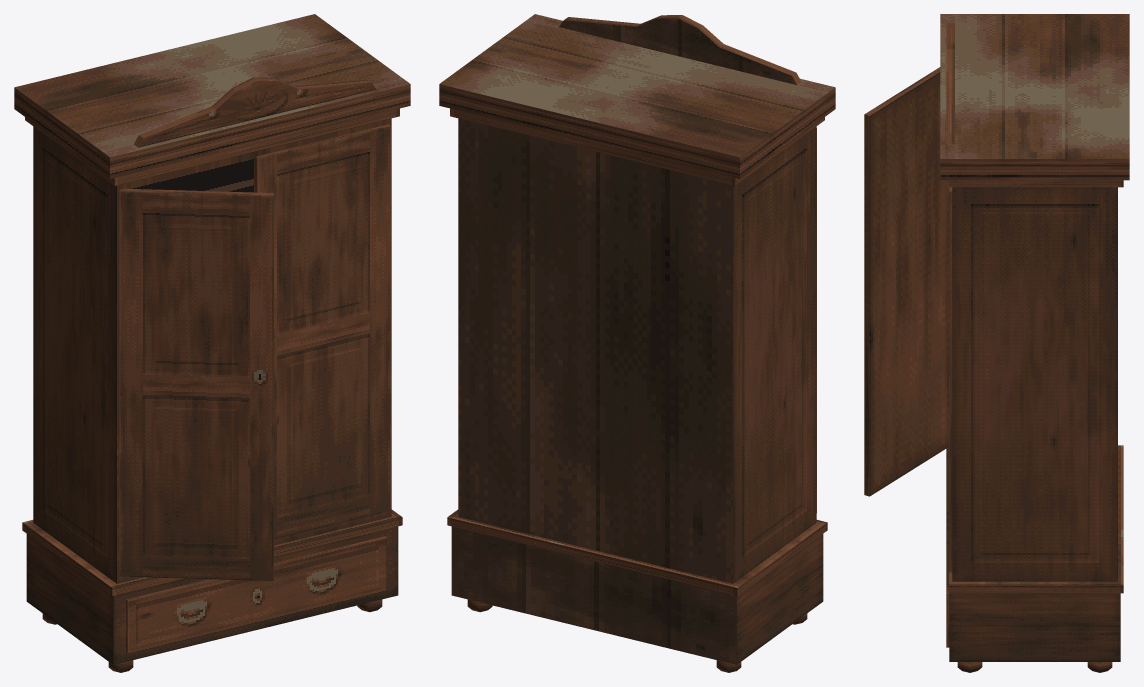
Rendered from wardrobe.glb.
3 views of the same model, side by side, from view 1: azimuth 30°, elevation 25°; view 2: azimuth 150°, elevation 25°; view 3: azimuth 270°, elevation 25° (orthographic).
Parts seen in each view (by area): view 1: wardrobe; view 2: wardrobe; view 3: wardrobe.
Part boxes in pixels (left/top/right/bottom): wardrobe: left=14, top=14, right=410, bottom=672; wardrobe: left=439, top=14, right=835, bottom=672; wardrobe: left=864, top=14, right=1129, bottom=672.
Size of the model in its own units: 1.16 by 2.09 by 0.8971.
Materials: 1 (1 with a texture image).
